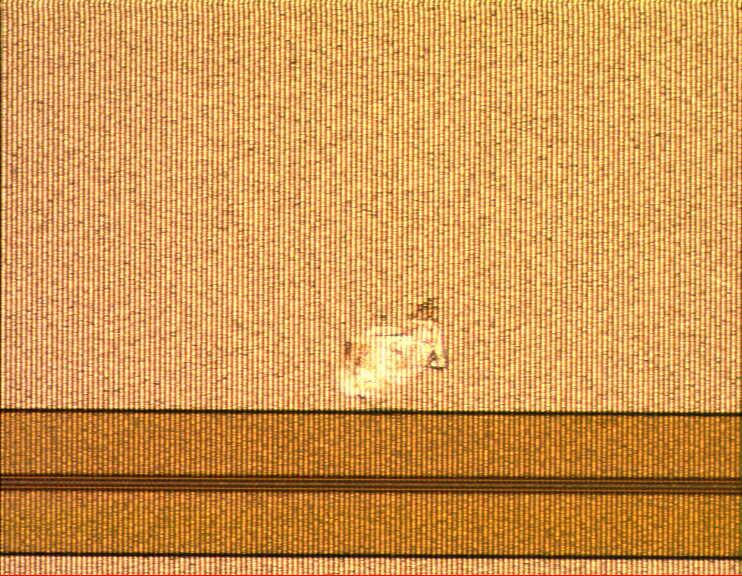SCRATCH: (316, 289, 483, 410)
